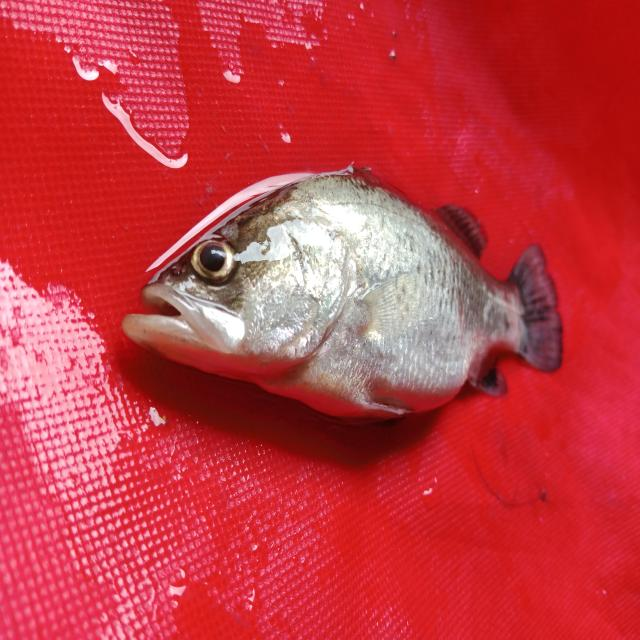ikan: (102, 142, 604, 460)
